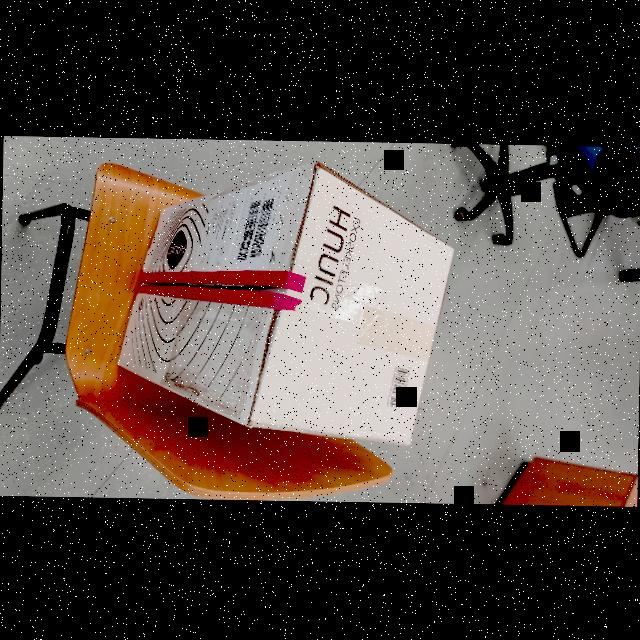cardboard_box: (120, 158, 456, 465)
